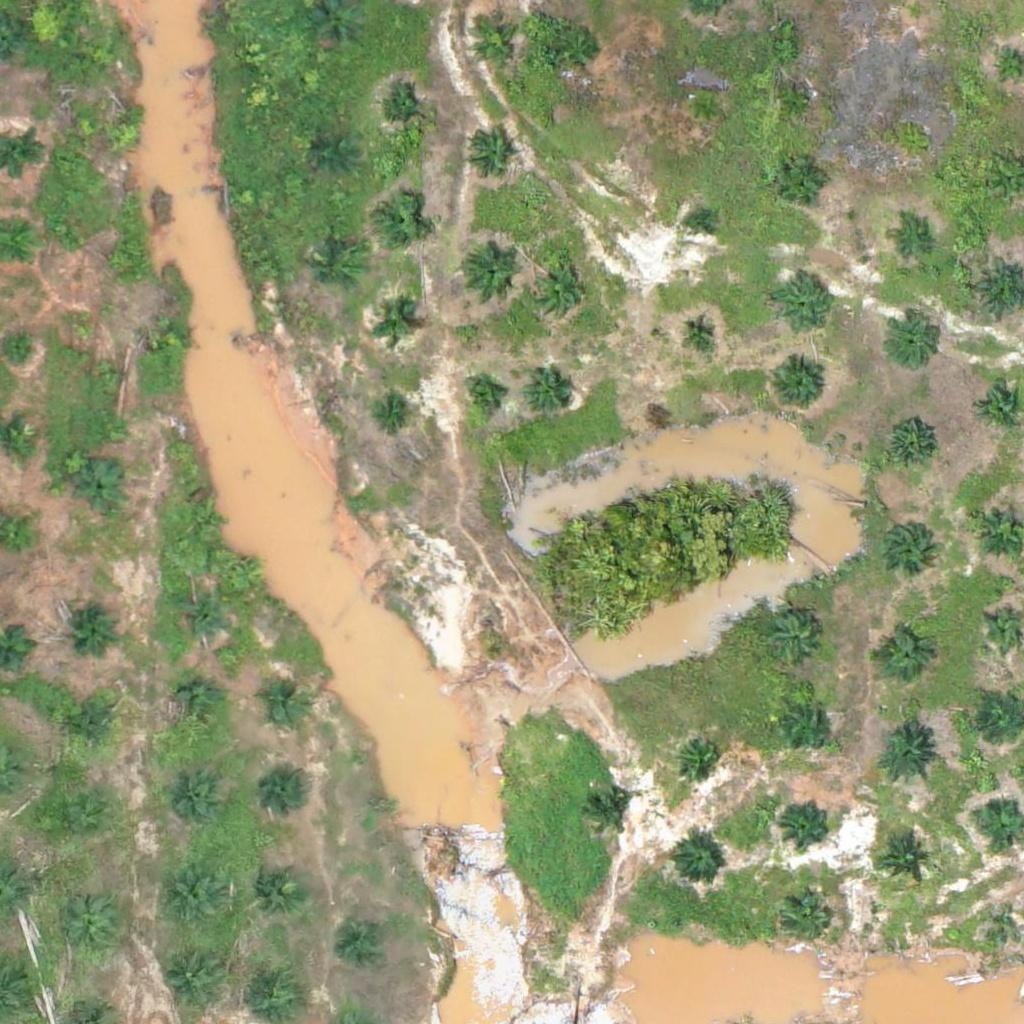Kelapa_Sawit: (47, 794, 110, 857), (162, 770, 225, 833), (160, 867, 223, 930), (161, 948, 224, 1011), (876, 726, 939, 789), (527, 259, 590, 322), (57, 900, 119, 963), (247, 858, 309, 921), (767, 355, 829, 418), (771, 273, 833, 336), (461, 241, 523, 304), (557, 24, 607, 75), (876, 631, 926, 682), (887, 317, 937, 368), (770, 616, 820, 667), (781, 699, 831, 750), (781, 797, 831, 848), (881, 836, 931, 887), (884, 418, 934, 469), (777, 154, 827, 205), (470, 18, 520, 69), (263, 769, 313, 819), (70, 600, 120, 650), (177, 595, 227, 645), (76, 464, 126, 514), (173, 680, 223, 730), (259, 679, 309, 729), (881, 521, 931, 571), (672, 837, 722, 887), (341, 915, 391, 965), (783, 898, 833, 948), (675, 733, 725, 783), (584, 789, 634, 839), (67, 704, 117, 754), (378, 89, 428, 139), (376, 198, 426, 248), (465, 131, 515, 181), (525, 367, 575, 417), (314, 248, 364, 298), (890, 223, 928, 261), (185, 502, 223, 540), (375, 303, 413, 341), (376, 394, 414, 432), (463, 377, 501, 415), (89, 354, 127, 392), (99, 241, 137, 279), (105, 116, 143, 154), (984, 610, 1021, 648), (682, 314, 719, 352), (153, 316, 190, 354), (686, 90, 724, 127), (316, 136, 353, 174), (779, 84, 816, 122), (998, 56, 1023, 81), (688, 211, 713, 236), (904, 1, 929, 26)
